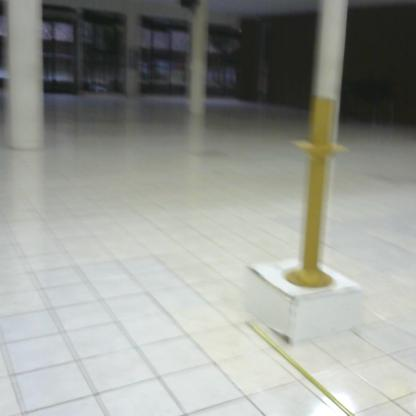pole: (280, 95, 357, 295)
